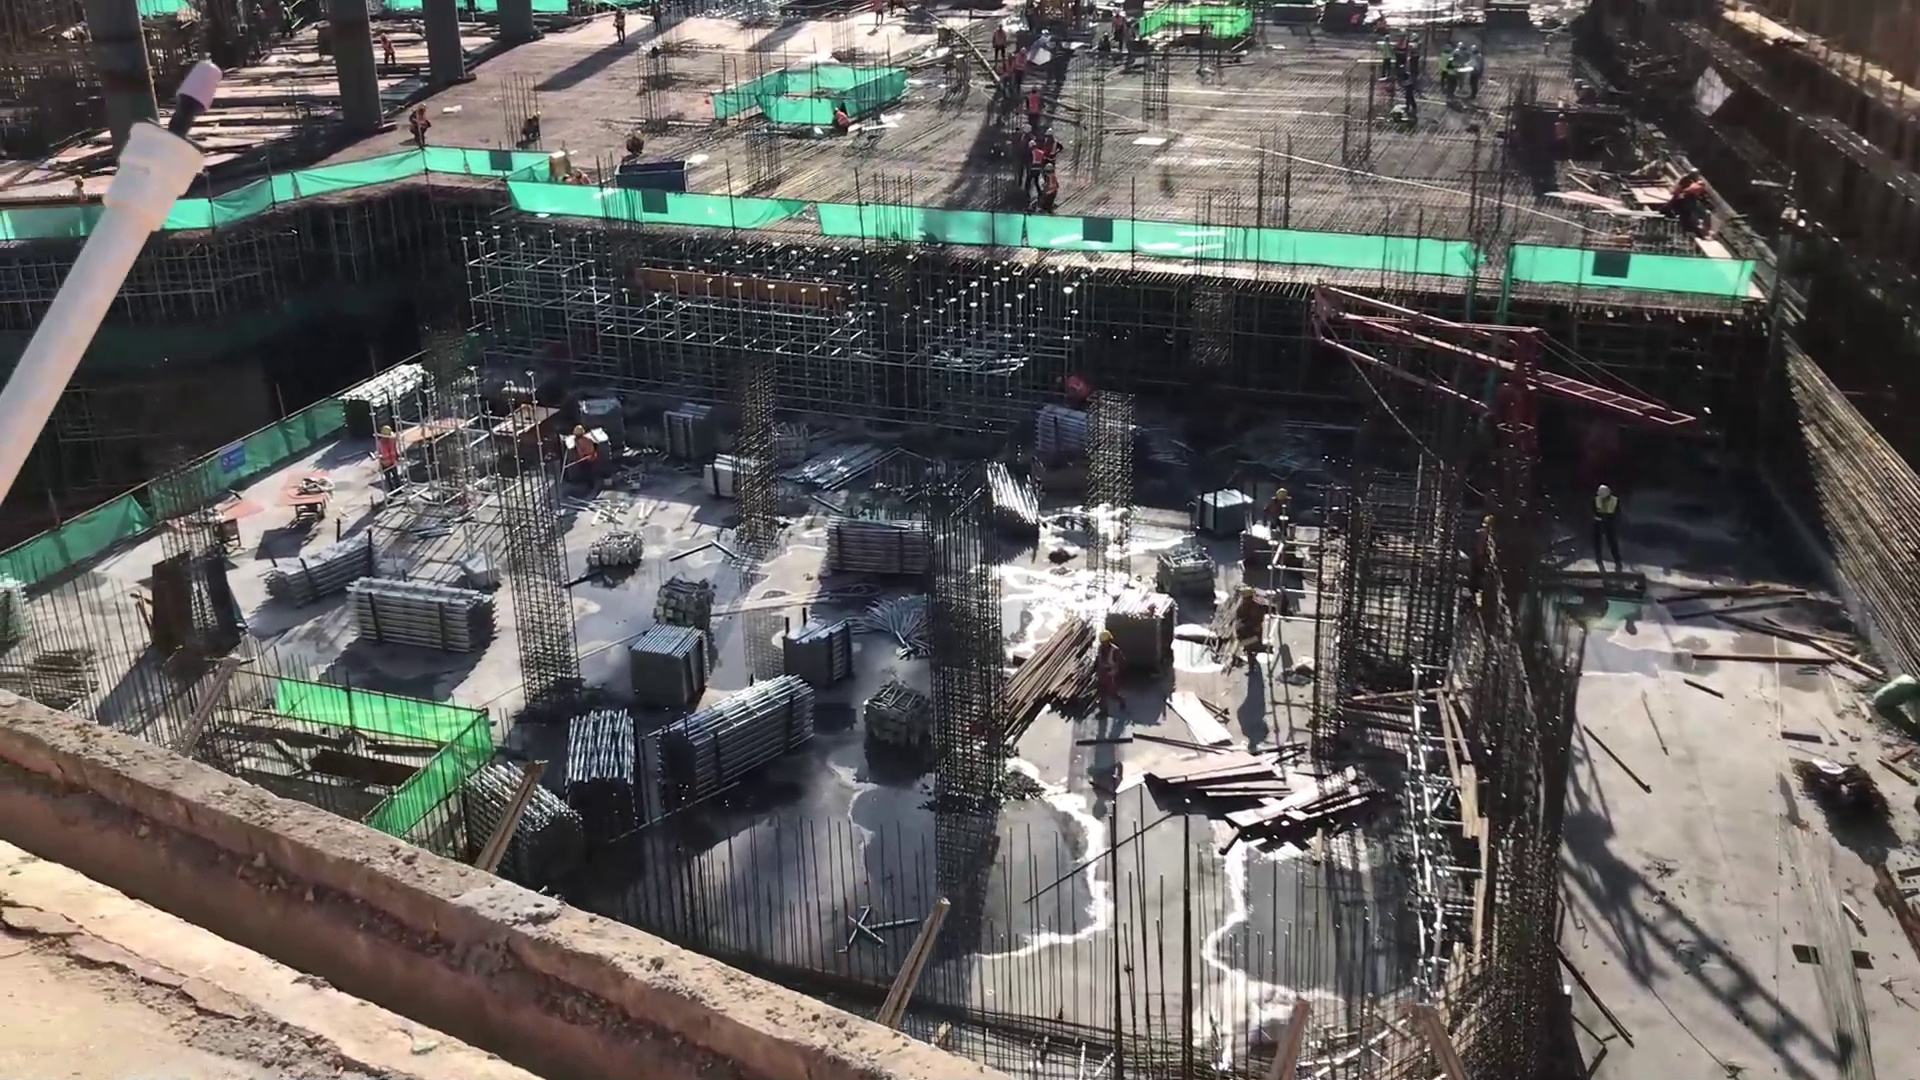board: (1151, 750, 1292, 800)
person: (1089, 627, 1127, 710), (1586, 479, 1619, 573), (565, 424, 600, 493), (1237, 586, 1262, 671), (1262, 484, 1294, 551), (378, 422, 402, 485), (1038, 160, 1059, 210), (1399, 66, 1418, 118), (988, 22, 1010, 64), (1027, 139, 1044, 192), (1012, 47, 1033, 91), (408, 103, 429, 144), (1447, 47, 1460, 111), (1025, 84, 1043, 129), (377, 31, 398, 67), (1041, 127, 1062, 162), (1469, 46, 1482, 102), (1001, 50, 1016, 99), (611, 7, 628, 48), (1409, 32, 1422, 80), (625, 129, 647, 155), (1381, 33, 1392, 82), (1455, 40, 1467, 88), (522, 111, 542, 140), (829, 106, 849, 134), (1394, 28, 1406, 74), (649, 1, 664, 29), (1439, 41, 1447, 87)
scaffold: (660, 674, 814, 804), (465, 761, 588, 884), (359, 577, 493, 652), (631, 619, 708, 705), (265, 540, 380, 599), (826, 519, 931, 577), (565, 707, 635, 788), (1107, 588, 1173, 671), (346, 365, 432, 428), (780, 615, 854, 685), (787, 438, 882, 491), (987, 463, 1038, 533), (660, 402, 709, 469), (1036, 403, 1091, 456)
